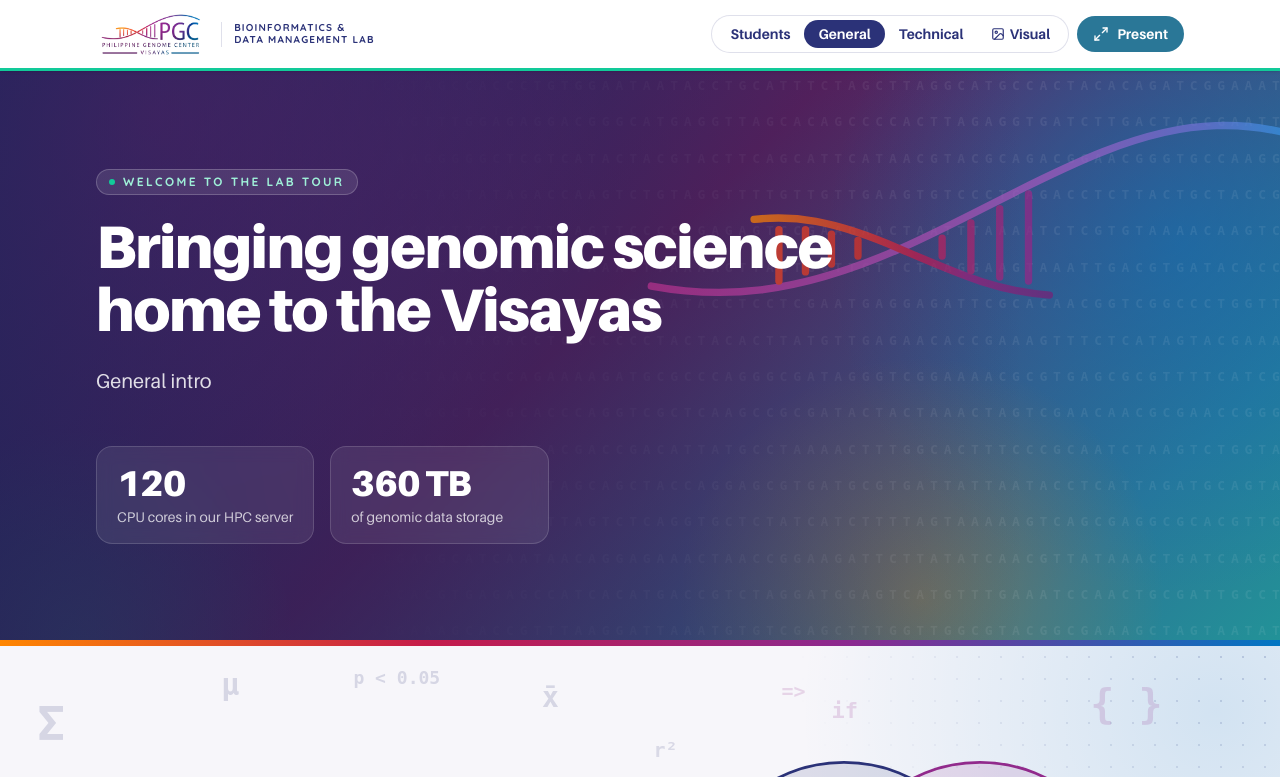
Scenario: TourExperience › switches copy when a different audience is picked
This screenshot has width=1280, height=777.
Expected: the text "General intro" is shown, x1=96 y1=369 x2=212 y2=393
What coordinates should you click on to do the following:
click the radio button labelled "Students"
I would click on:
 (760, 34)
Its box is x1=716 y1=20 x2=804 y2=48.
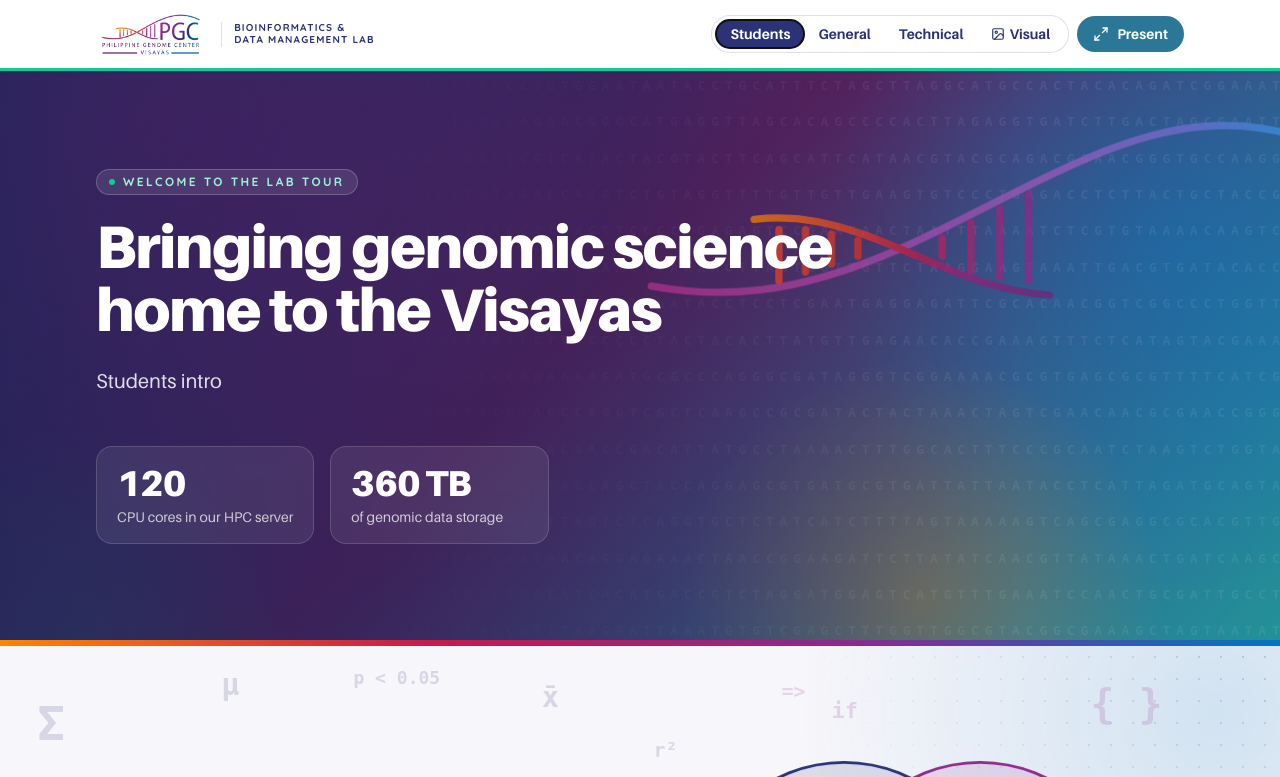
Result: the text "Students intro" is shown at x1=96 y1=369 x2=222 y2=393
What coordinates should you click on to do the following:
click the radio button labelled "Technical"
I would click on:
 (931, 34)
Its box is x1=885 y1=20 x2=977 y2=48.
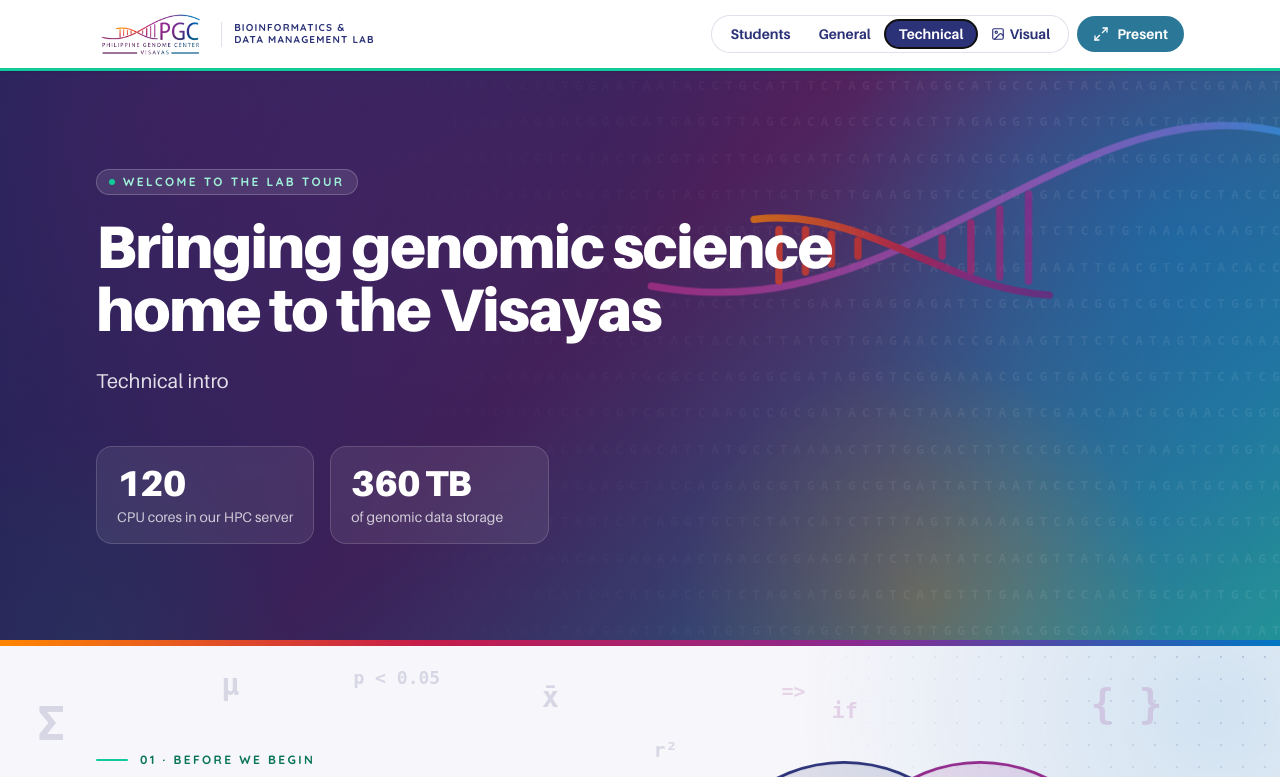
Result: the text "Technical intro" is shown at x1=96 y1=369 x2=228 y2=393
